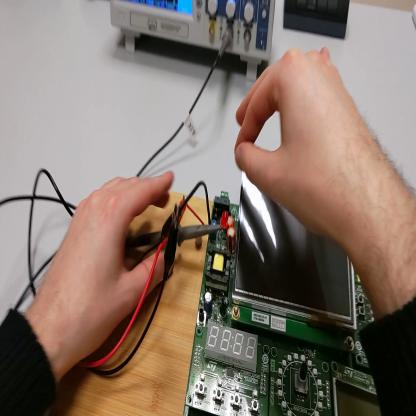hand: (232, 48, 375, 242), (44, 174, 177, 364)
low voltage board: (183, 170, 382, 416)
oscilloscope: (111, 3, 276, 80)
oscilloscope probe tip: (129, 221, 222, 248)
working area: (50, 191, 214, 414)
